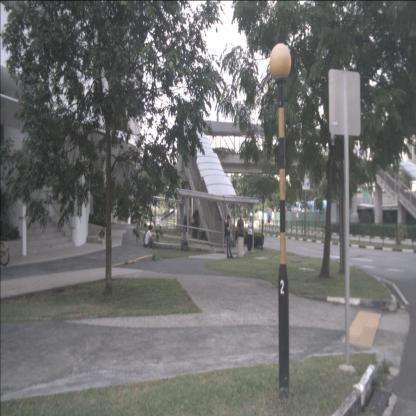human-pedestrian-adult: (224, 215, 234, 258), (237, 214, 246, 256), (144, 225, 156, 252), (247, 215, 253, 253), (181, 228, 189, 251)
vehicle-bicycle: (0, 237, 10, 266)
